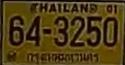0: (103, 16, 117, 46)
2: (70, 15, 84, 46)
3: (54, 15, 68, 46)
4: (26, 15, 40, 46)
5: (86, 15, 101, 46)
6: (8, 15, 23, 45)
BKK: (25, 51, 101, 64)
